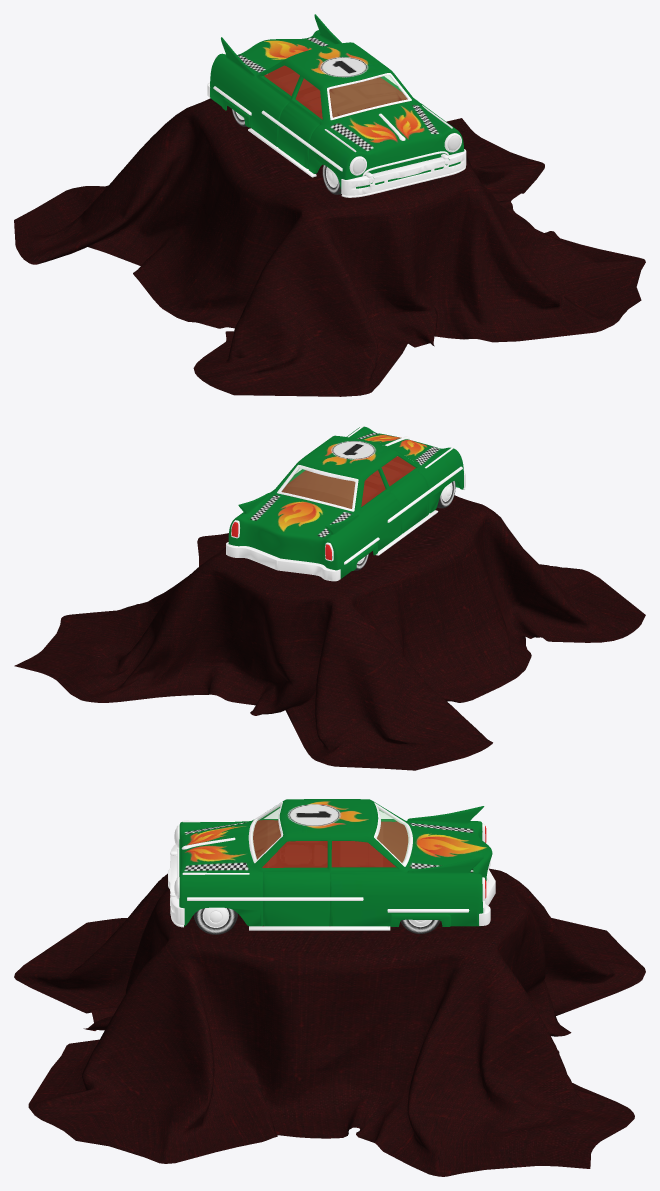
File: ToyCar.glb
3 views of the same model, one above another, from view 1: azimuth 30°, elevation 25°; view 2: azimuth 150°, elevation 25°; view 3: azimuth 270°, elevation 25° (orthographic). The views are drawn at different scales.
Parts seen in each view (by area): view 1: Fabric, ToyCar, Glass; view 2: Fabric, ToyCar, Glass; view 3: Fabric, ToyCar, Glass.
Part boxes in pixels (x1=…): Fabric: x1=14, y1=98, x2=645, y2=396; ToyCar: x1=207, y1=14, x2=466, y2=197; Glass: x1=329, y1=75, x2=406, y2=116; Fabric: x1=14, y1=495, x2=645, y2=770; ToyCar: x1=226, y1=425, x2=465, y2=581; Glass: x1=282, y1=468, x2=354, y2=508; Fabric: x1=14, y1=868, x2=645, y2=1176; ToyCar: x1=168, y1=799, x2=495, y2=934; Glass: x1=252, y1=805, x2=409, y2=862.
Size of the model in its own units: 0.0734 by 0.0288 by 0.074.
3 materials, 2 textured.
